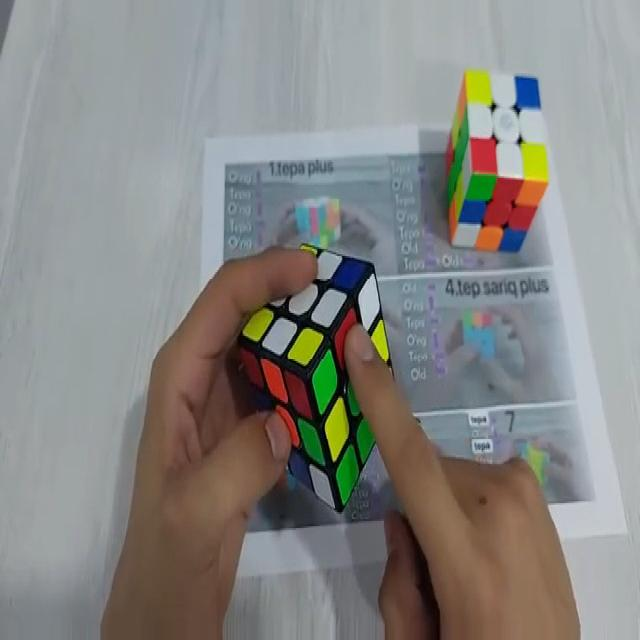Rub: (238, 239, 396, 514), (447, 66, 548, 254)
